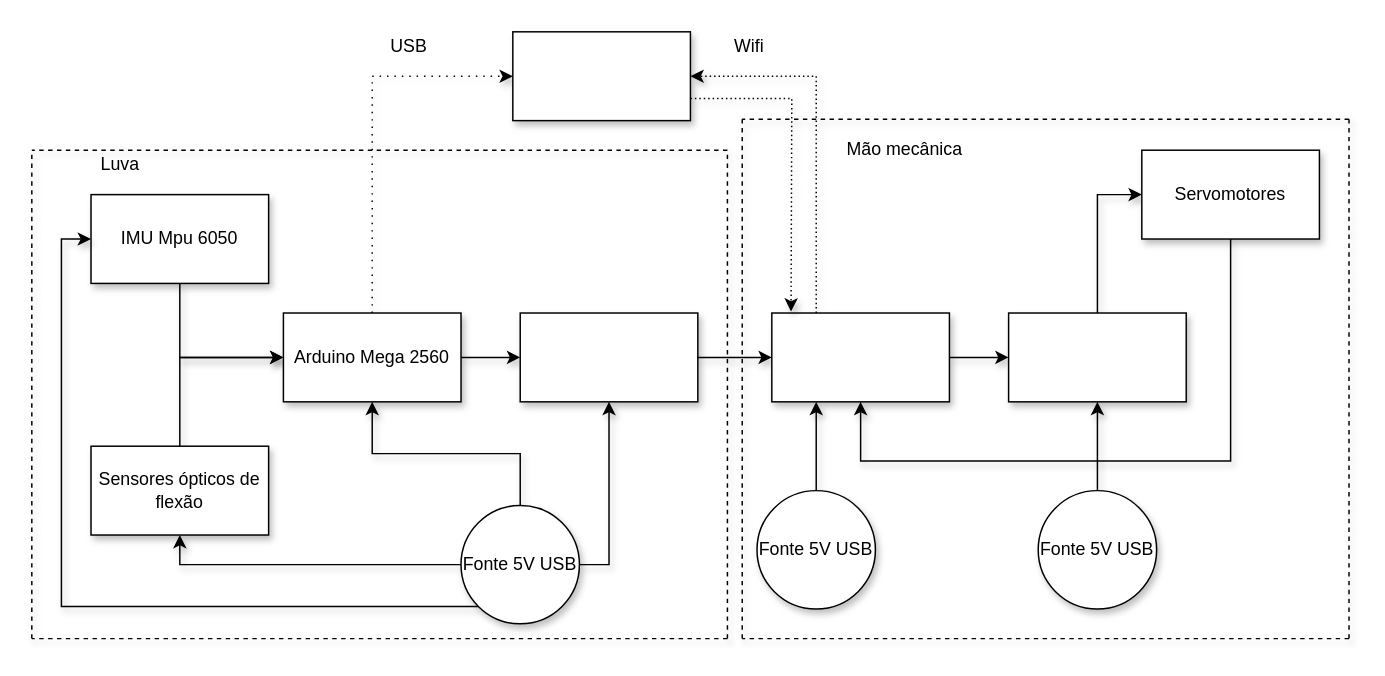
Image size: 1385x676. Some labels were removed from this diagram. The centre of each missing label's shape, as x and y in pixels:
Computador (Opcional): the point at 602,77
Driver Motores: the point at 1098,359
Módulo Bluetooth: the point at 610,359
Raspberry Pi Zero W: the point at 861,359
